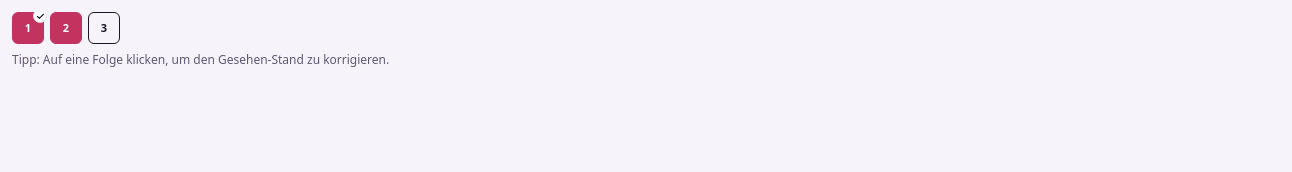
clicking an episode corrects its watched state for the chosen person
Expected: the button "1" is shown, [12,12,44,44]
Expected: the button "2" is shown, [50,12,82,44]
Click the button named "S01E03" at (104, 28), box [88,12,120,44]
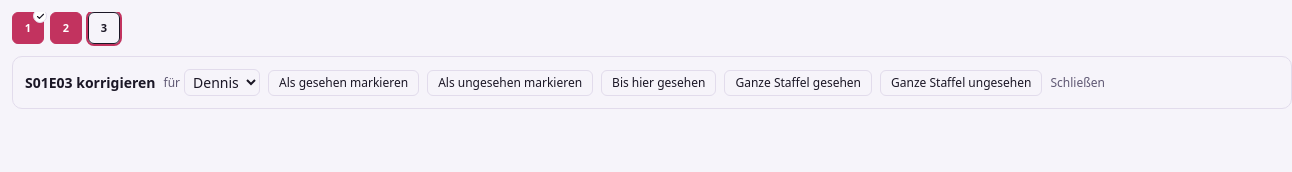
Select "Anna" in the dropdown labelled "für" at (222, 82), box [184,69,260,96]
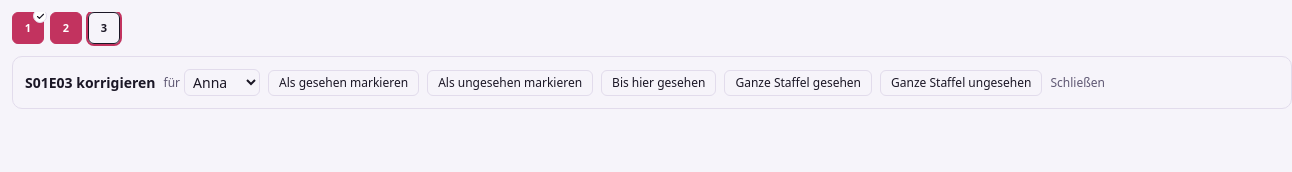
Click the button "Bis hier gesehen" at (659, 82), box [601,70,716,96]
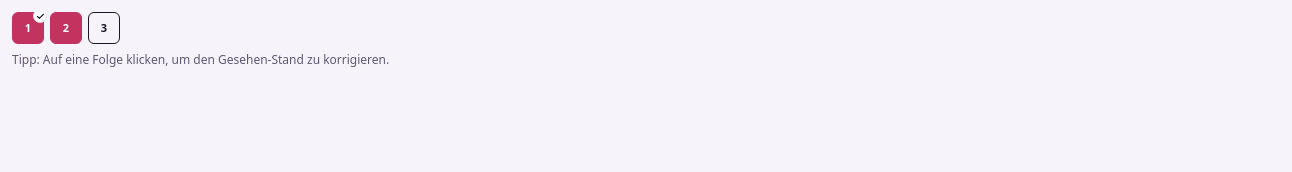
Expected: the button "Bis hier gesehen" is gone
